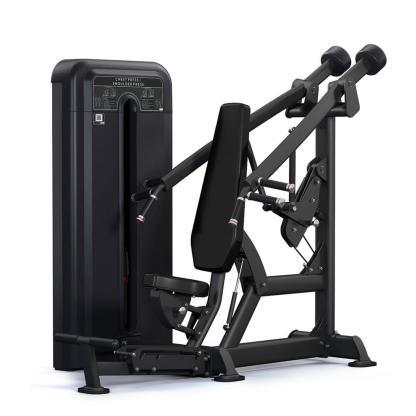shoulder press machine: (50, 41, 384, 396)
